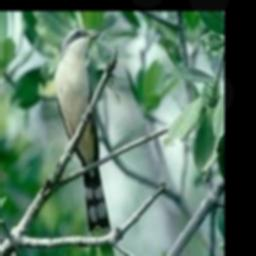Cuckoo: (55, 27, 111, 238)
